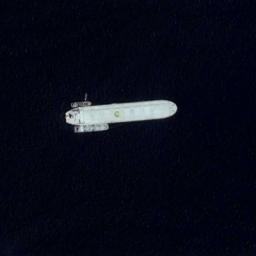boat: (65, 99, 177, 132)
